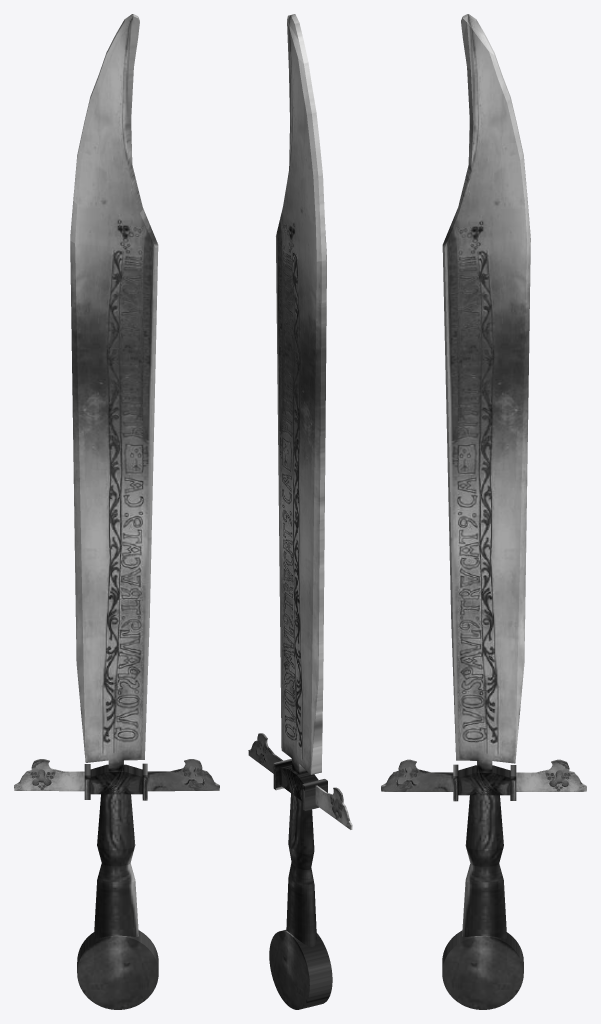
Rendered from espada.fbx.
The picture shows the model from 3 angles, left to right: view 1: azimuth 90°, elevation 25°; view 2: azimuth 210°, elevation 25°; view 3: azimuth 270°, elevation 25°; orthographic projection.
Visible parts, largest first — view 1: Cylinder; view 2: Cylinder; view 3: Cylinder.
Boxes of the visible parts, bbox=[...] form: Cylinder: bbox=[14, 14, 219, 1009]; Cylinder: bbox=[248, 14, 352, 1009]; Cylinder: bbox=[381, 14, 586, 1009].
Size of the model in its own units: 12.16 by 476 by 89.83.
